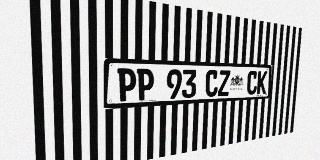3: (182, 69, 197, 98)
9: (166, 69, 182, 99)
C: (205, 70, 218, 97), (246, 71, 258, 95)
K: (257, 71, 267, 94)
P: (117, 68, 136, 102), (137, 69, 154, 101)
Z: (218, 70, 230, 96)
